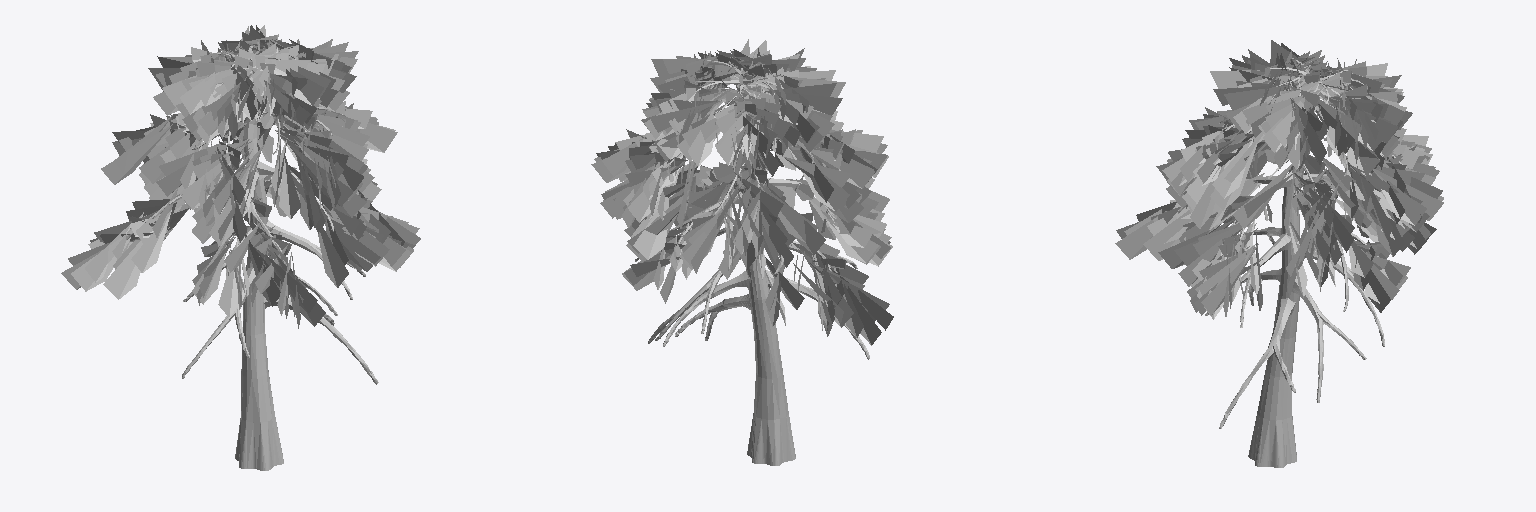
File: GiantPine_4.obj
3 renders of one model, left to right at view 1: azimuth 30°, elevation 25°; view 2: azimuth 150°, elevation 25°; view 3: azimuth 270°, elevation 25°, orthographic.
Visible parts, largest first — view 1: GiantPine_4; view 2: GiantPine_4; view 3: GiantPine_4.
Boxes of the visible parts, box(x1,y1,x2,y2) form: GiantPine_4: box(61, 25, 420, 470); GiantPine_4: box(591, 39, 893, 465); GiantPine_4: box(1115, 40, 1443, 467).
Bounding box in the file's own units: 13.46 × 16.68 × 12.31.